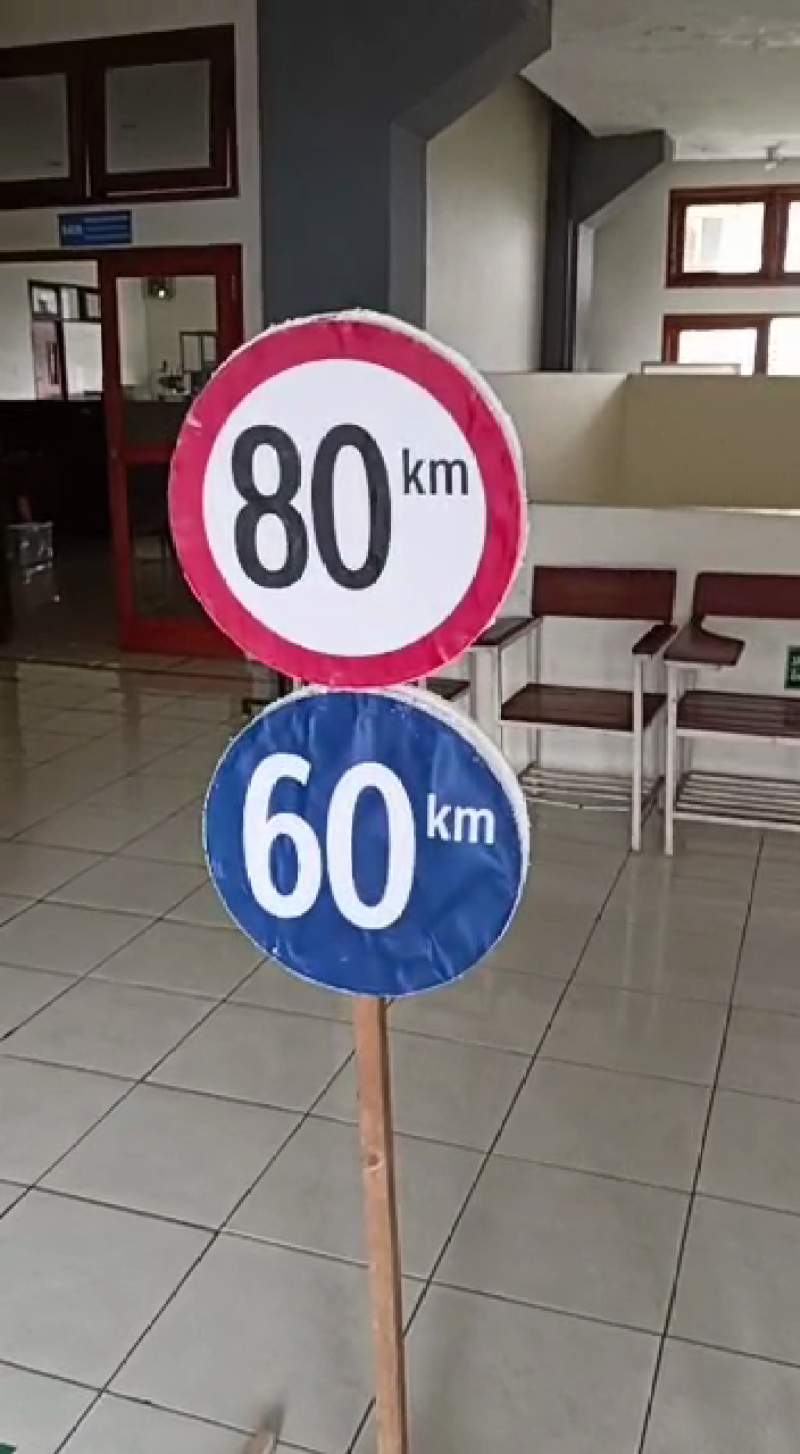batas maksimal 80kmperjam minimal 60kmperjam: (149, 295, 560, 1008)
